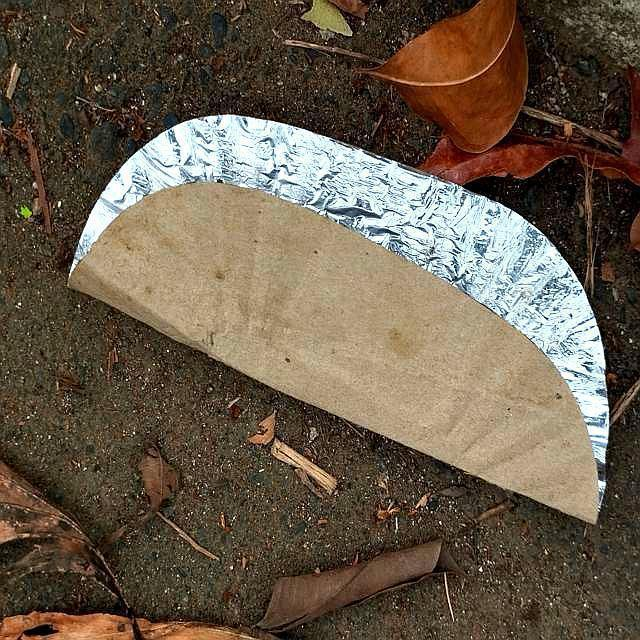Biodegradable: (30, 76, 640, 530)
